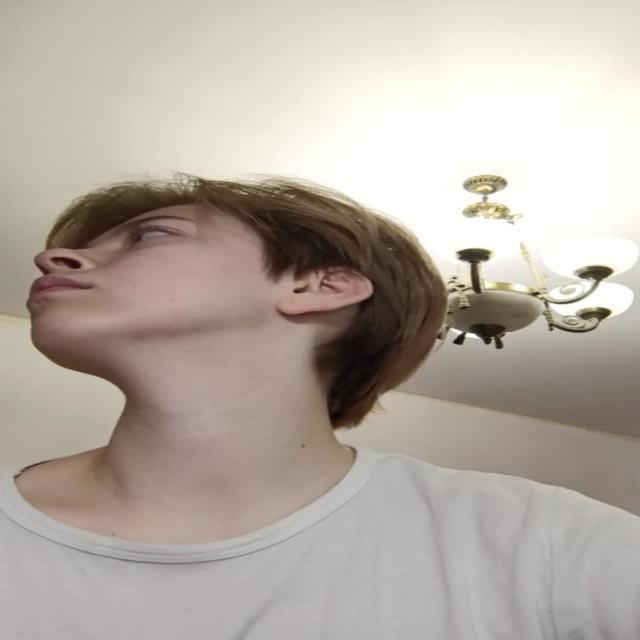earlobe: (278, 266, 374, 316)
